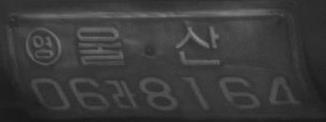0: (28, 75, 70, 111)
1: (179, 75, 212, 108)
4: (267, 74, 303, 108)
6: (217, 74, 261, 111), (71, 76, 110, 110)
8: (139, 75, 178, 111)
라: (110, 77, 138, 109)
영: (25, 26, 62, 66)
울산_D: (75, 23, 220, 69)
